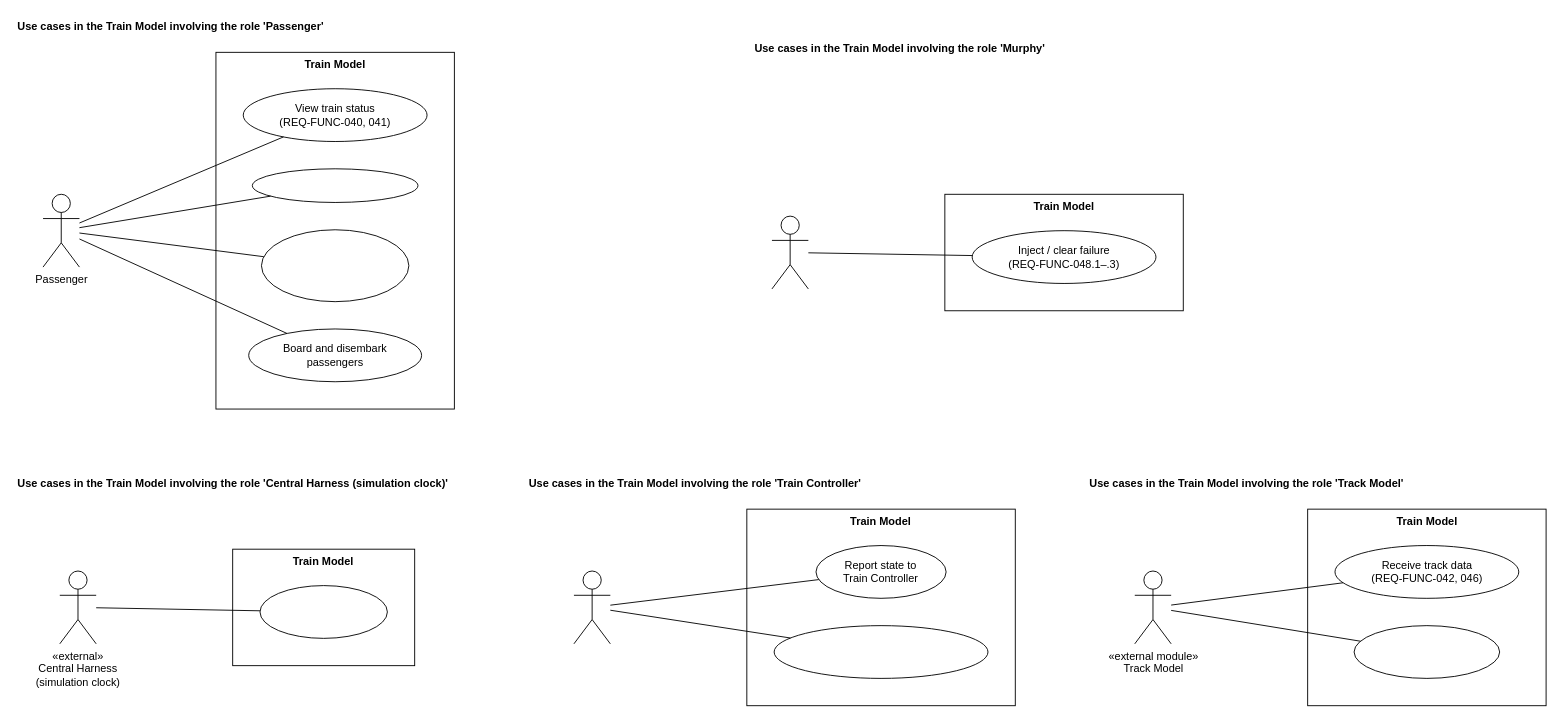
Image size: 1562x722. Some labels were removed from this diagram. The box of each missing label's shape, as (x1, y1, x2, y2) in pixels:
Advance one simulation step: (259, 585, 387, 638)
Apply controller commands (REQ-FUNC-043/044/045): (773, 625, 988, 678)
Murphy: (771, 215, 808, 289)
Pull passenger emergency brake (REQ-FUNC-047): (261, 229, 409, 302)
Report position to Track Model: (1353, 625, 1500, 678)
View announcement: (251, 168, 418, 202)
«external module» Train Controller: (573, 570, 610, 644)
